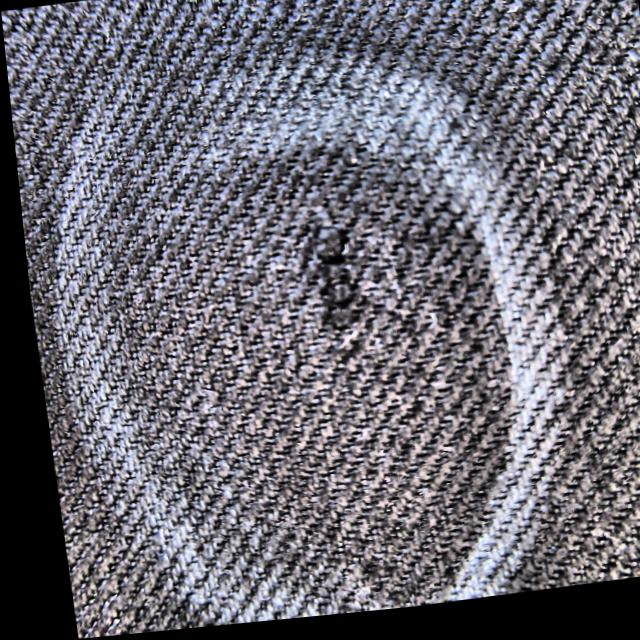Hole: (287, 215, 371, 325)
